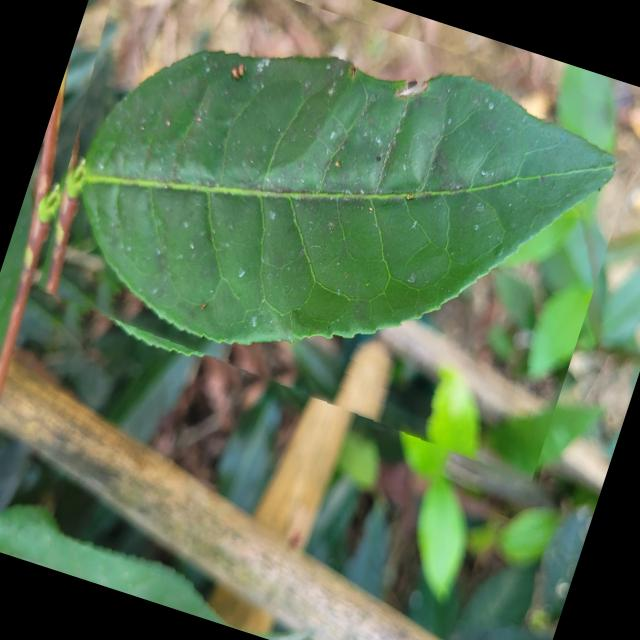Category D(7+ days, Not for Tea): (2, 0, 640, 484)
